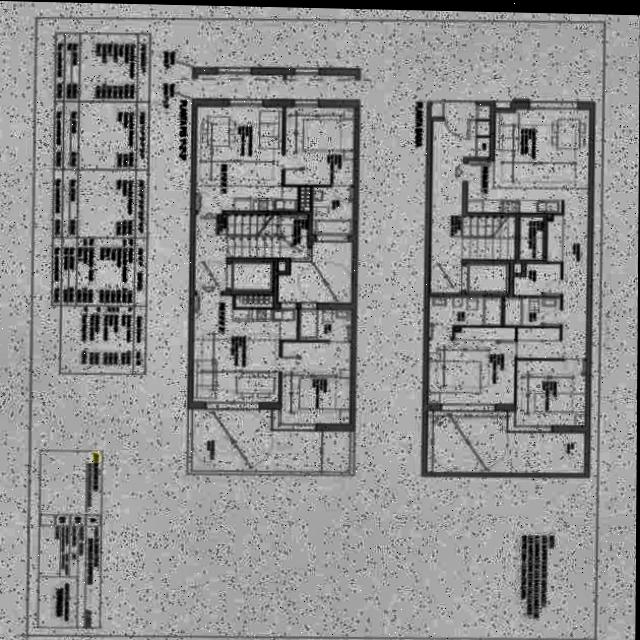room: (465, 108, 590, 360), (430, 121, 517, 295), (193, 295, 299, 404), (196, 106, 300, 211), (428, 411, 586, 475), (195, 211, 309, 293), (428, 328, 516, 405), (281, 341, 352, 425), (508, 361, 587, 434), (285, 107, 355, 186), (278, 241, 353, 303), (429, 297, 503, 339), (312, 187, 354, 235), (504, 298, 561, 328), (299, 309, 352, 341), (514, 264, 562, 297), (520, 217, 544, 261)
